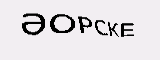Е: (119, 21, 139, 39)
К: (108, 21, 118, 39)
О: (50, 13, 77, 34)
Р: (78, 14, 94, 35)
С: (95, 19, 109, 37)
Ә: (20, 12, 47, 37)
